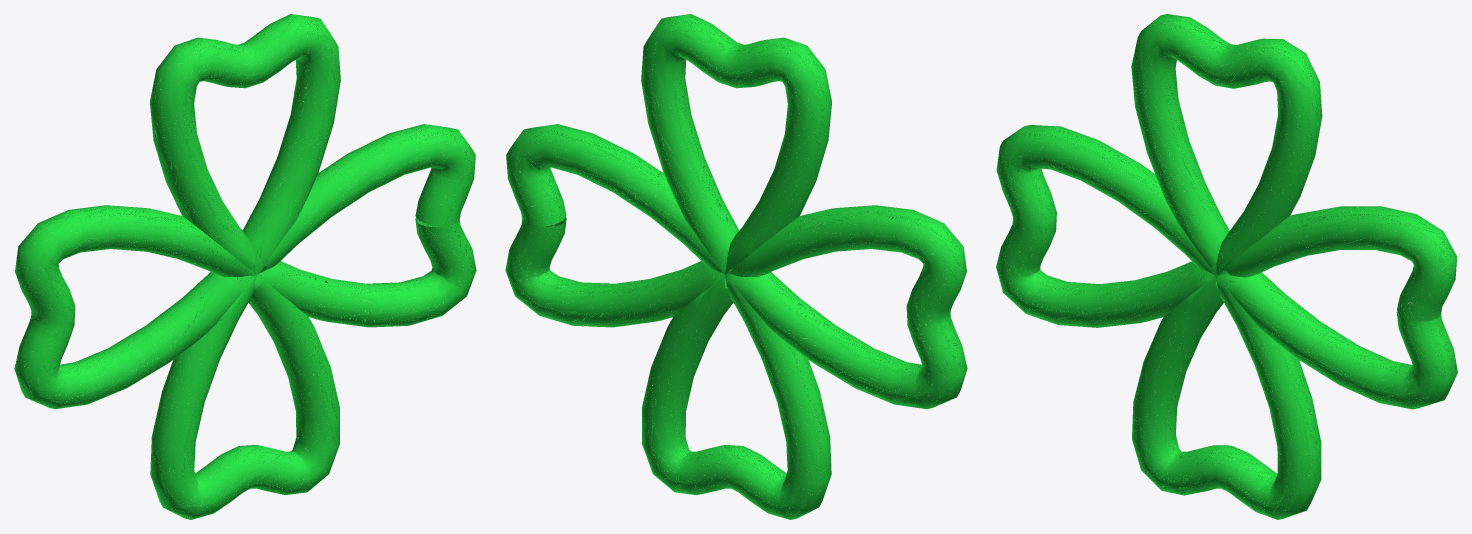
File: trevo1.glb
3 views of the same model, side by side, from view 1: azimuth 30°, elevation 25°; view 2: azimuth 150°, elevation 25°; view 3: azimuth 330°, elevation 25° (orthographic).
Parts seen in each view (by area): view 1: MyParametricCurve; view 2: MyParametricCurve; view 3: MyParametricCurve.
Part boxes in pixels (x1,y1,x2,y2): MyParametricCurve: (14,14,476,519); MyParametricCurve: (505,14,967,519); MyParametricCurve: (996,14,1457,519).
Bounding box in the file's own units: 4.76 × 4.76 × 0.4.
